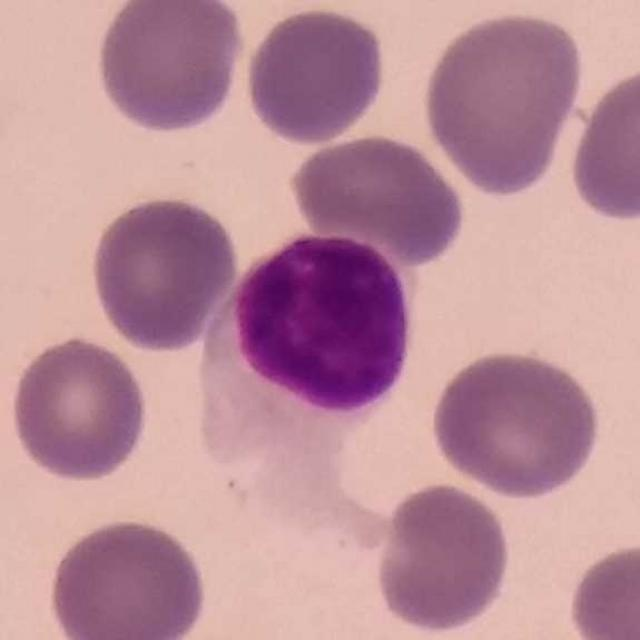Lymphocyte: (196, 231, 413, 551)
RBC: (418, 6, 588, 200), (427, 345, 606, 501), (87, 190, 240, 355), (286, 129, 468, 264), (371, 478, 515, 636), (7, 332, 152, 485), (240, 3, 390, 148), (91, 0, 247, 137), (44, 513, 210, 640), (565, 58, 640, 226), (564, 537, 639, 640)
